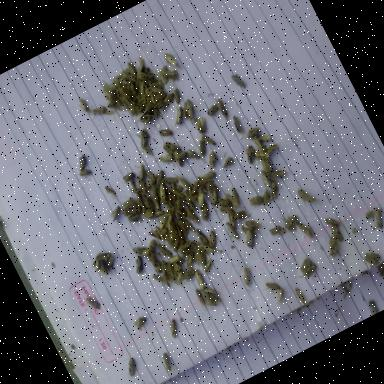pbw: (192, 194, 216, 222), (134, 128, 156, 154), (172, 209, 192, 237), (292, 284, 312, 312), (244, 213, 268, 236), (322, 235, 344, 260), (158, 213, 180, 238), (177, 190, 198, 216), (130, 105, 156, 126), (279, 210, 302, 232), (230, 114, 248, 141), (214, 97, 232, 124), (203, 289, 225, 311), (120, 356, 141, 379), (76, 95, 96, 119), (271, 286, 291, 310), (190, 186, 210, 210), (174, 170, 194, 194), (168, 104, 189, 126), (186, 145, 206, 168), (240, 227, 260, 250), (134, 174, 152, 198), (120, 202, 144, 220), (72, 152, 92, 173), (198, 128, 217, 150), (129, 254, 148, 276), (264, 178, 283, 200), (328, 221, 346, 244), (228, 187, 245, 211), (82, 294, 102, 314), (163, 136, 182, 157), (182, 97, 201, 118), (260, 278, 281, 297), (165, 317, 183, 339), (296, 219, 314, 241), (225, 220, 242, 243), (224, 206, 241, 229), (194, 288, 210, 312), (131, 182, 150, 202), (242, 144, 260, 165), (156, 240, 174, 261), (154, 180, 172, 201), (132, 314, 152, 332), (363, 251, 381, 271), (182, 250, 200, 270), (251, 146, 271, 164), (202, 150, 220, 170), (238, 265, 255, 286), (206, 228, 222, 250), (182, 216, 198, 238), (192, 268, 208, 290), (192, 245, 208, 267), (323, 213, 342, 231), (296, 256, 315, 274), (230, 72, 247, 92), (193, 136, 210, 156), (134, 162, 151, 182), (195, 227, 211, 248), (159, 352, 175, 373), (252, 134, 268, 155), (185, 205, 201, 226), (258, 157, 274, 178), (165, 220, 181, 241), (198, 239, 216, 257), (162, 172, 180, 190), (158, 124, 176, 142), (302, 262, 320, 280), (108, 204, 126, 222), (268, 166, 288, 182), (240, 222, 256, 242), (96, 260, 111, 281), (156, 150, 174, 167), (120, 168, 138, 185), (201, 258, 218, 276), (203, 177, 220, 195), (142, 238, 160, 255), (364, 248, 382, 265), (132, 195, 148, 214), (206, 188, 222, 207), (163, 50, 179, 69), (164, 185, 180, 204), (125, 60, 140, 80), (258, 168, 272, 189), (178, 102, 194, 120), (144, 166, 160, 184), (176, 242, 194, 258), (138, 68, 156, 84), (168, 88, 184, 106), (199, 166, 217, 182), (162, 66, 178, 84), (141, 196, 156, 215), (154, 224, 168, 244), (129, 98, 146, 114), (156, 212, 173, 228), (216, 194, 233, 210), (132, 63, 148, 80), (104, 184, 119, 202), (244, 125, 262, 140), (365, 298, 380, 316), (162, 141, 176, 160), (195, 174, 208, 194), (96, 248, 112, 264), (200, 282, 216, 298), (152, 170, 168, 186), (102, 253, 118, 269), (146, 74, 163, 89), (91, 102, 108, 117), (147, 226, 162, 243), (174, 198, 188, 216), (172, 150, 186, 168), (172, 184, 186, 202), (197, 116, 211, 134), (192, 116, 206, 134), (266, 141, 284, 155), (150, 83, 166, 98), (170, 218, 182, 238), (161, 92, 178, 106), (181, 238, 198, 252), (248, 194, 265, 208), (150, 207, 168, 220), (150, 194, 162, 213), (173, 270, 188, 285), (122, 68, 136, 84), (132, 242, 148, 256), (188, 182, 204, 196), (233, 209, 249, 223), (205, 102, 221, 116), (259, 189, 273, 205), (76, 167, 93, 180), (127, 79, 139, 97), (101, 82, 113, 100), (257, 130, 272, 144), (106, 92, 121, 106), (136, 81, 150, 96), (140, 112, 156, 125), (149, 184, 162, 200), (220, 156, 236, 169), (218, 202, 234, 215), (148, 252, 161, 268), (127, 211, 143, 224), (101, 82, 118, 94), (174, 150, 189, 163), (268, 224, 283, 237), (228, 194, 240, 210), (121, 84, 134, 98), (121, 197, 136, 209), (182, 268, 197, 280), (153, 99, 168, 111), (143, 178, 158, 190), (142, 142, 154, 156), (152, 270, 164, 284), (142, 208, 156, 220), (166, 204, 178, 218), (90, 258, 102, 272), (144, 95, 156, 109), (154, 91, 168, 103), (164, 268, 174, 284), (264, 158, 275, 172), (158, 260, 169, 274), (160, 196, 172, 208), (120, 94, 132, 106), (171, 261, 182, 274), (148, 90, 158, 104), (190, 192, 202, 203), (168, 254, 180, 265), (132, 80, 142, 92), (375, 260, 384, 273), (170, 270, 178, 284), (166, 260, 174, 273), (151, 108, 160, 119), (190, 179, 201, 188), (131, 105, 139, 116), (128, 106, 136, 117), (154, 107, 162, 118), (378, 267, 384, 281), (186, 184, 194, 192)
